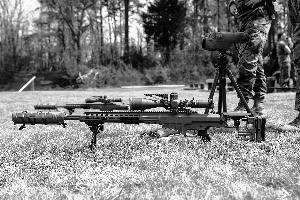sniper: (10, 90, 268, 152)
